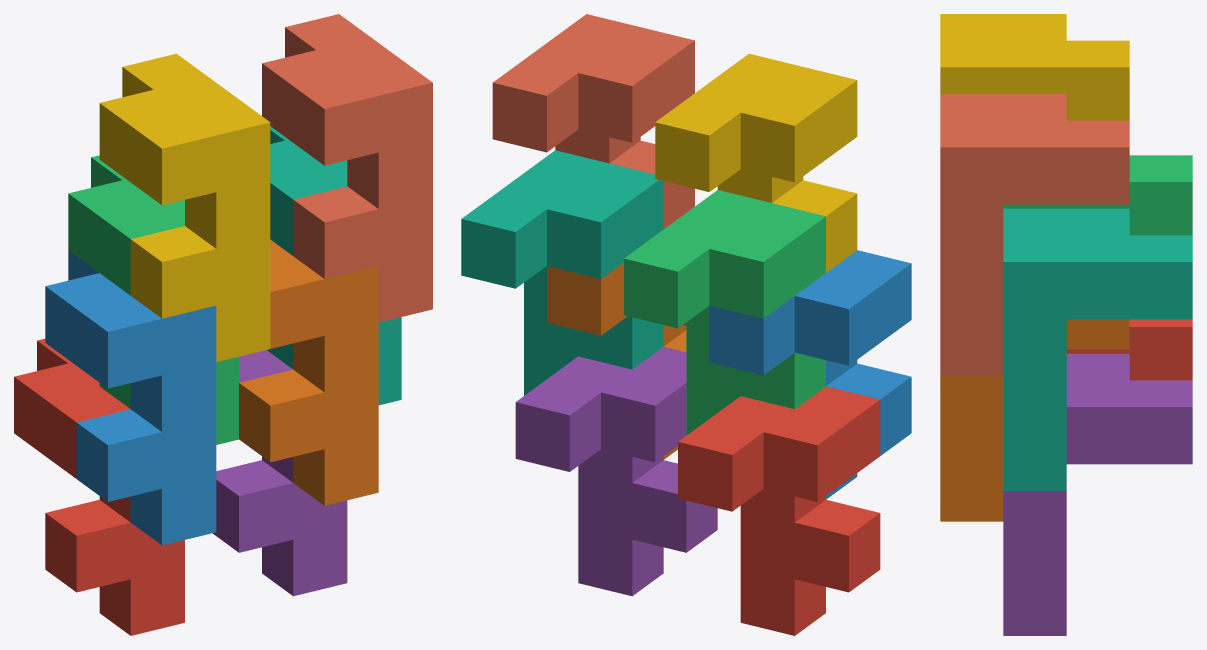
Rendered from tiling.obj.
The picture shows the model from 3 angles, left to right: view 1: azimuth 30°, elevation 25°; view 2: azimuth 150°, elevation 25°; view 3: azimuth 270°, elevation 25°; orthographic projection.
Parts seen in each view (by area): view 1: copy_1_domain_4, copy_1_domain_8, copy_1_domain_2, copy_1_domain_6, copy_1_domain_1, copy_1_domain_5, copy_1_domain_3, copy_1_domain_7; view 2: copy_1_domain_1, copy_1_domain_5, copy_1_domain_3, copy_1_domain_7, copy_1_domain_4, copy_1_domain_8, copy_1_domain_2, copy_1_domain_6; view 3: copy_1_domain_7, copy_1_domain_8, copy_1_domain_5, copy_1_domain_4, copy_1_domain_6, copy_1_domain_3, copy_1_domain_1.
Part boxes in pixels (x1,y1,x2,y2): copy_1_domain_4: (99, 53, 270, 361); copy_1_domain_8: (262, 14, 432, 322); copy_1_domain_2: (45, 250, 216, 545); copy_1_domain_6: (239, 239, 378, 505); copy_1_domain_1: (14, 338, 184, 635); copy_1_domain_5: (212, 350, 347, 596); copy_1_domain_3: (68, 155, 238, 444); copy_1_domain_7: (267, 126, 401, 405); copy_1_domain_1: (678, 386, 880, 635); copy_1_domain_5: (515, 346, 717, 596); copy_1_domain_3: (624, 190, 825, 435); copy_1_domain_7: (461, 150, 663, 395); copy_1_domain_4: (655, 53, 857, 272); copy_1_domain_8: (492, 14, 694, 228); copy_1_domain_2: (709, 250, 911, 499); copy_1_domain_6: (547, 262, 686, 459); copy_1_domain_7: (1003, 208, 1192, 490); copy_1_domain_8: (940, 94, 1129, 376); copy_1_domain_5: (1003, 353, 1192, 635); copy_1_domain_4: (940, 14, 1129, 120); copy_1_domain_6: (940, 319, 1129, 521); copy_1_domain_3: (1003, 155, 1192, 235); copy_1_domain_1: (1066, 319, 1192, 380).
Bounding box in the file's own units: 6 × 9 × 4.
